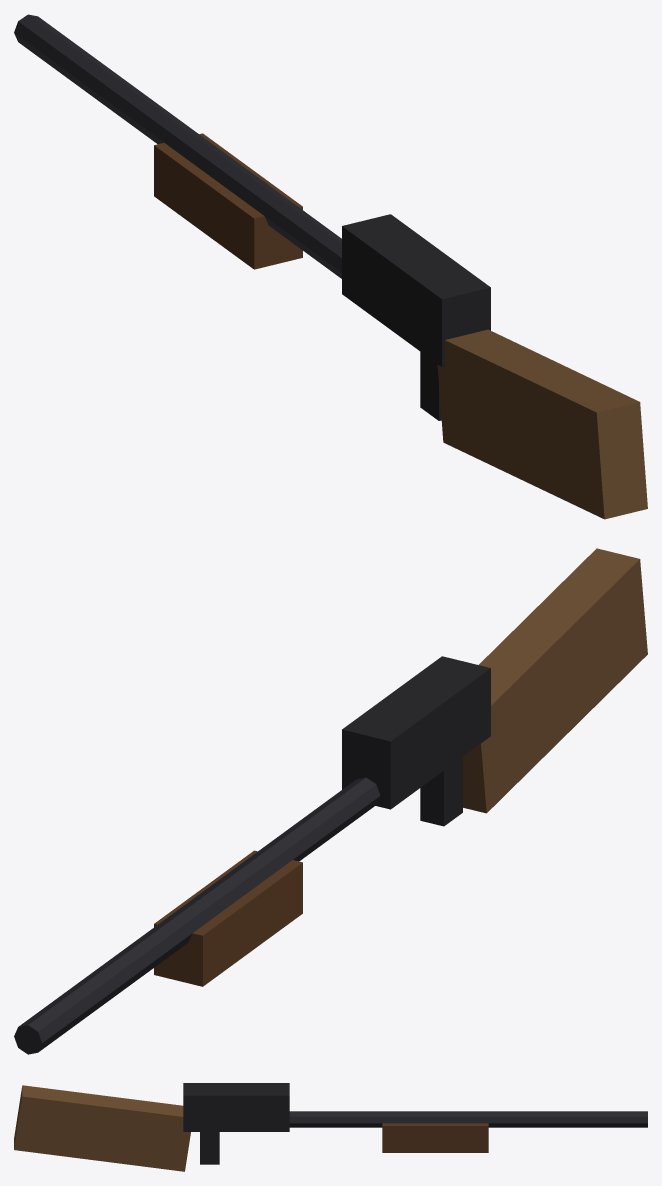
Rendered from shotgun_w0.glb.
3 views of the same model, one above another, from view 1: azimuth 30°, elevation 25°; view 2: azimuth 150°, elevation 25°; view 3: azimuth 270°, elevation 25° (orthographic). The views are drawn at different scales.
Visible parts, largest first — view 1: shotgun_w0; view 2: shotgun_w0; view 3: shotgun_w0.
Part boxes in pixels (x1=…): shotgun_w0: x1=14, y1=14, x2=647, y2=519; shotgun_w0: x1=14, y1=548, x2=647, y2=1054; shotgun_w0: x1=14, y1=1083, x2=647, y2=1171.
Bounding box in the file's own units: 0.045 × 0.1277 × 0.955.
